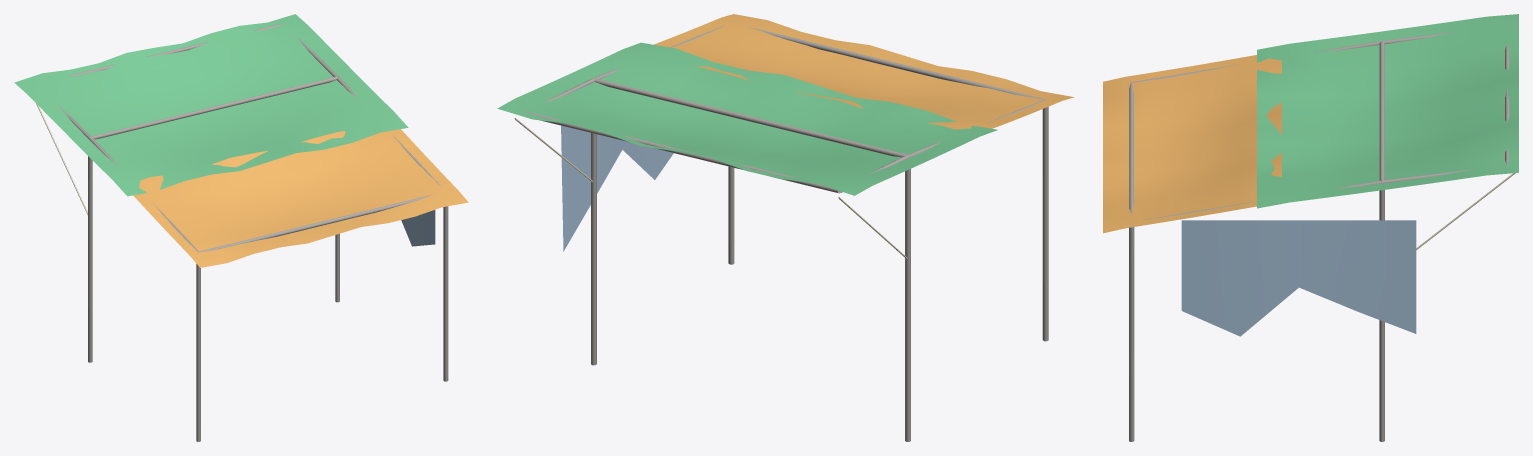
File: carpa_remendada.glb
The picture shows the model from 3 angles, left to right: view 1: azimuth 30°, elevation 25°; view 2: azimuth 150°, elevation 25°; view 3: azimuth 270°, elevation 25°; orthographic projection. The views are drawn at different scales.
Visible parts, largest first — view 1: carpa_remendada_lona, carpa_remendada_tubos; view 2: carpa_remendada_lona, carpa_remendada_tubos; view 3: carpa_remendada_lona, carpa_remendada_tubos.
Part boxes in pixels (x1,y1,x2,y2): carpa_remendada_lona: (14, 14, 468, 267); carpa_remendada_tubos: (58, 23, 448, 441); carpa_remendada_lona: (497, 14, 1073, 251); carpa_remendada_tubos: (525, 25, 1048, 441); carpa_remendada_lona: (1103, 14, 1518, 336); carpa_remendada_tubos: (1129, 31, 1509, 441).
Size of the model in its own units: 3.3 by 2.72 by 3.65.
